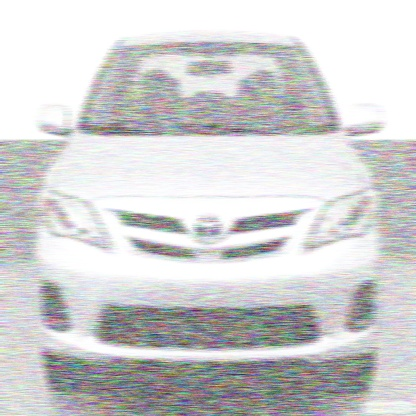Vehicle: (32, 26, 383, 398)
